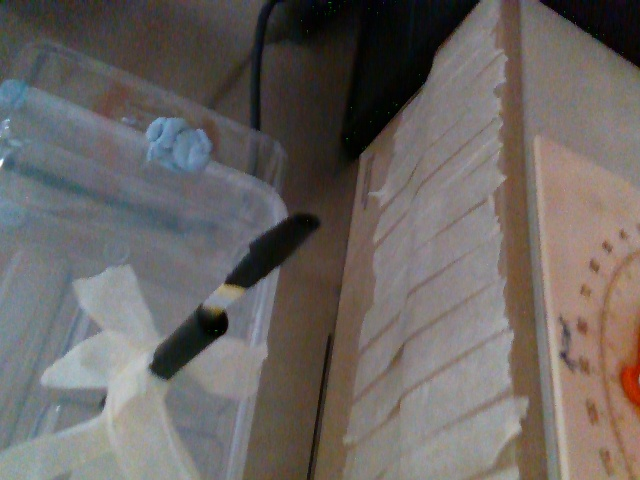test_strip: (200, 212, 318, 317)
